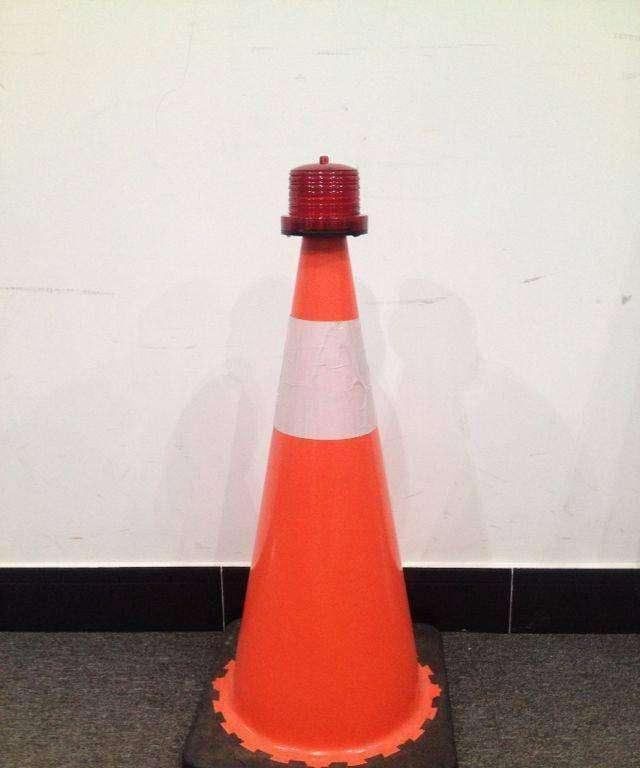sign: (171, 151, 467, 768)
